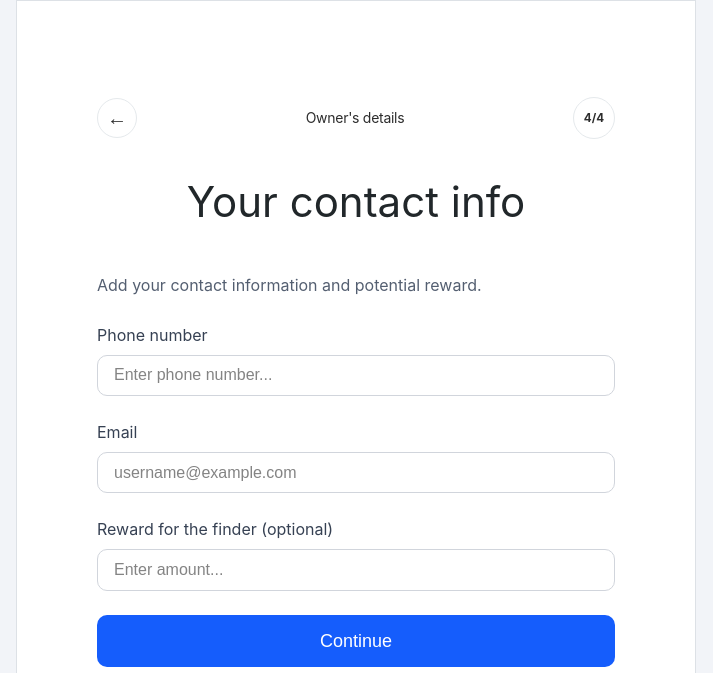
ContactScreen › validation feedback › should clear error when phone corrected
This screenshot has width=713, height=673.
# first submit with invalid
Type "abc" into the field with test id "contact.phoneNumber.input" at coordinates (356, 375), box [97,355,615,396]
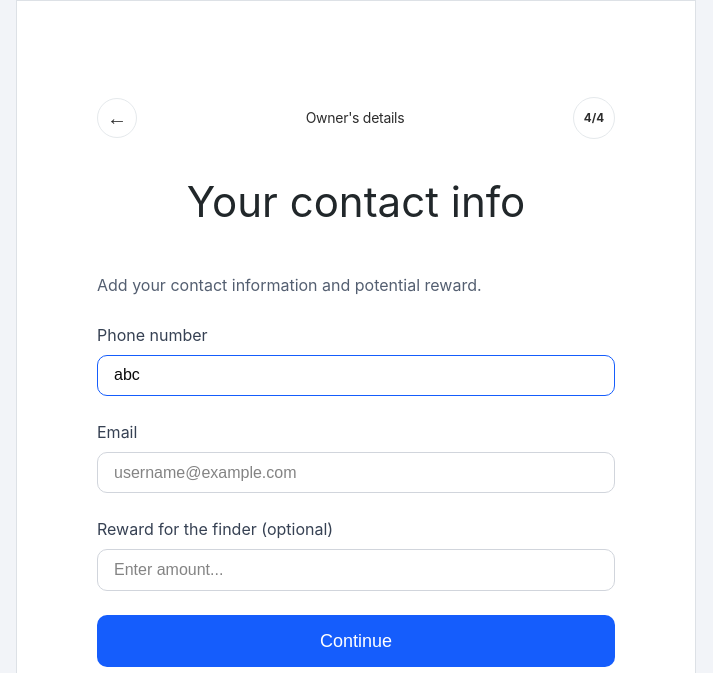
Click the button with test id "contact.continue.button" at coordinates (356, 641), box [97,615,615,667]
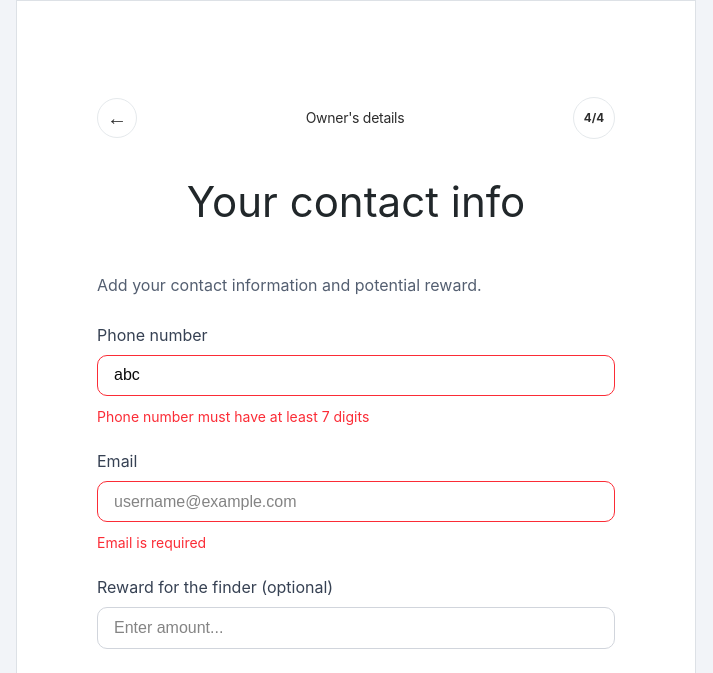
Expected: the text "Phone number must have at least 7 digits" is shown, [97,408,369,425]
# correct it
Replace the text in the field with test id "contact.phoneNumber.input" with "1234567" at coordinates (356, 375), box [97,355,615,396]
(page scrolled)
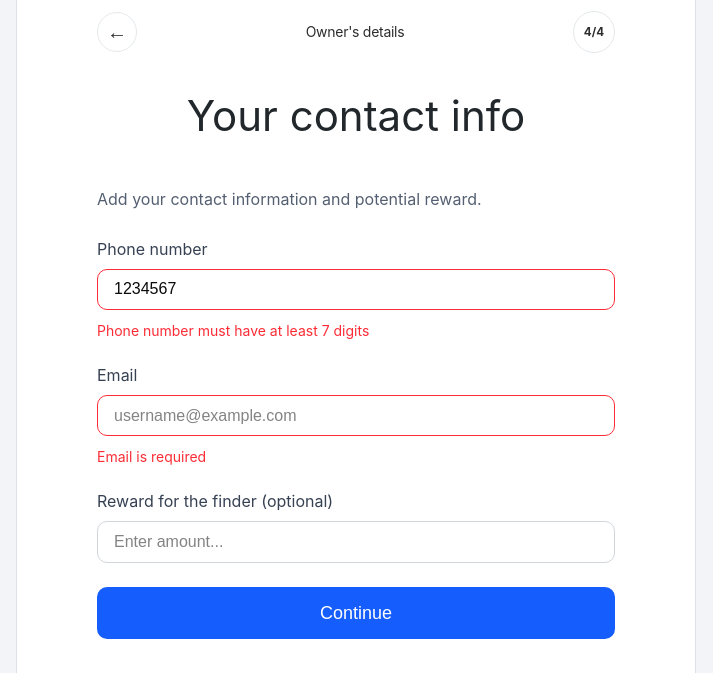
Click the button with test id "contact.continue.button" at coordinates (356, 613), box [97,587,615,639]
(page scrolled)
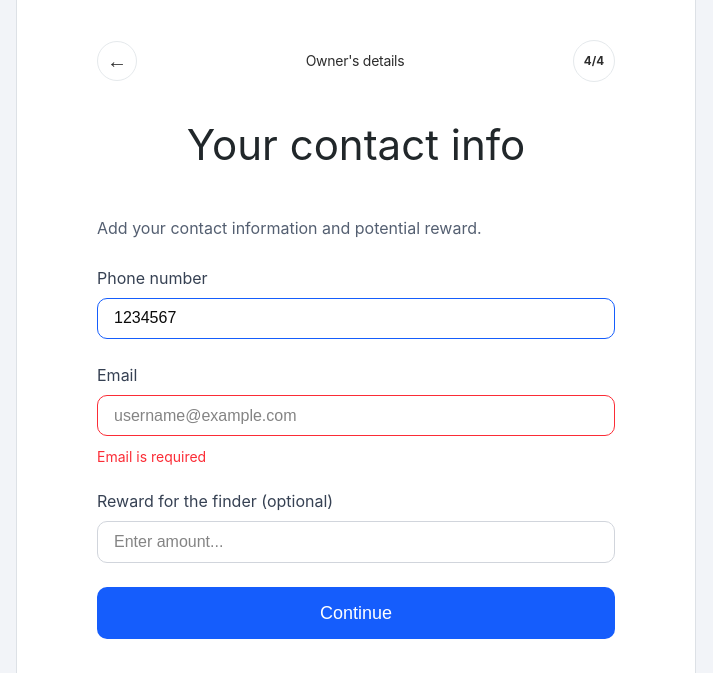
Expected: the text "must have at least 7 digits" is gone
